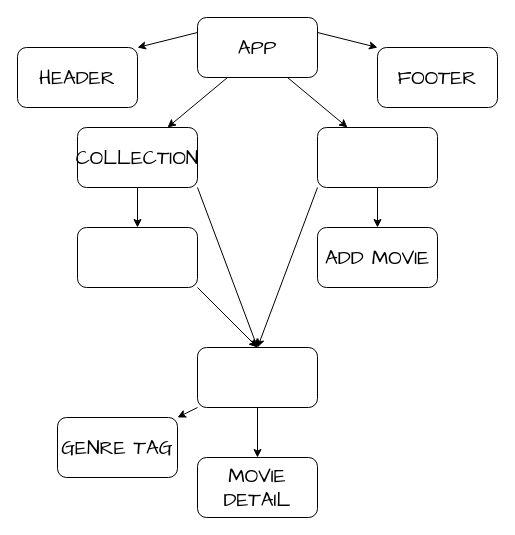
Image size: 515x535. Some labels were removed from this diagram. Each missing label, with the centre of its shape:
"MOVIE CARD" belongs at point (257, 377).
"RECENTLY ADDED/WATCHED" belongs at point (137, 257).
"WATCHLIST" belongs at point (377, 157).
